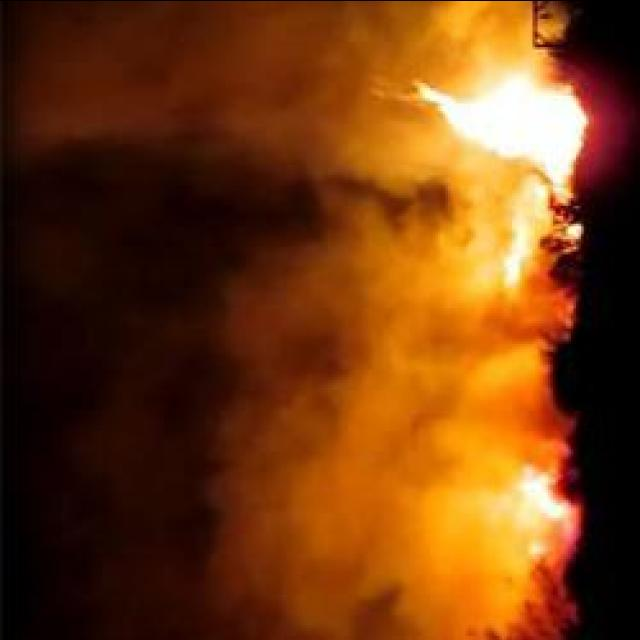fire: (493, 89, 571, 149), (446, 98, 499, 132), (502, 78, 532, 122), (540, 137, 572, 171), (504, 233, 524, 279), (521, 472, 551, 502)
smoke: (10, 5, 230, 156), (216, 39, 382, 215), (301, 172, 485, 302), (279, 398, 421, 564), (210, 514, 384, 640), (400, 318, 538, 438), (226, 250, 355, 378), (65, 400, 196, 516), (394, 514, 491, 640), (346, 0, 528, 64), (84, 553, 204, 640), (202, 413, 262, 536), (28, 219, 112, 301)
